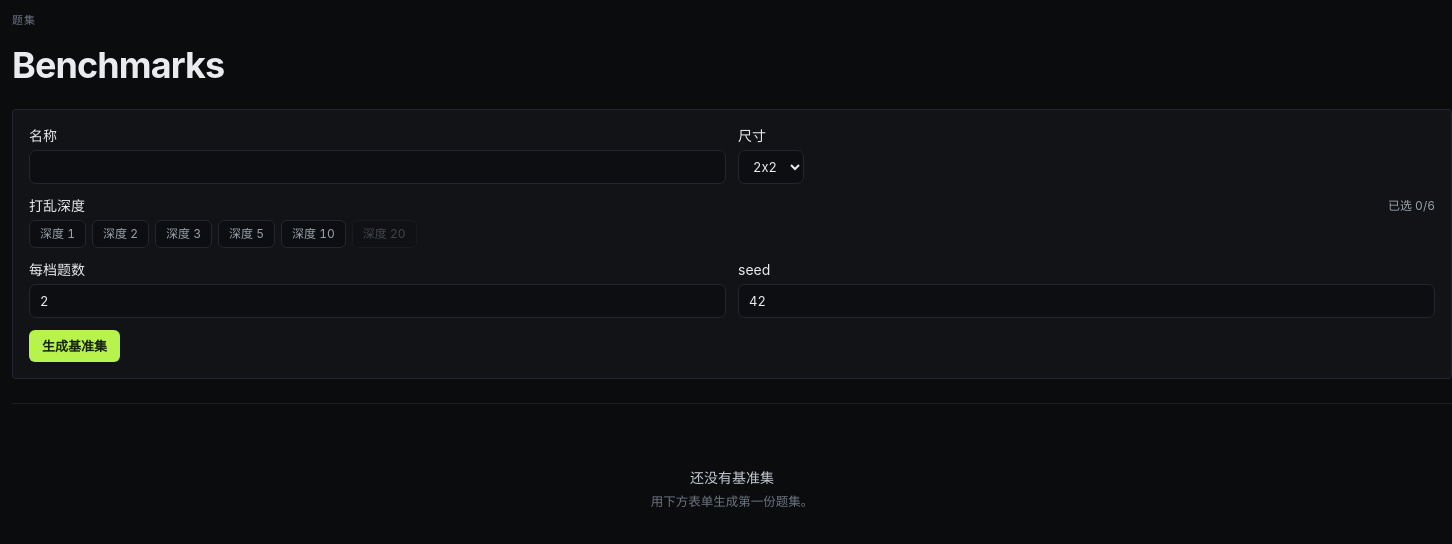
Test: BenchmarksView › refuses to generate without any depth
Type "demo" into the field labelled "名称" at (378, 167), box left=29, top=150, right=726, bottom=184
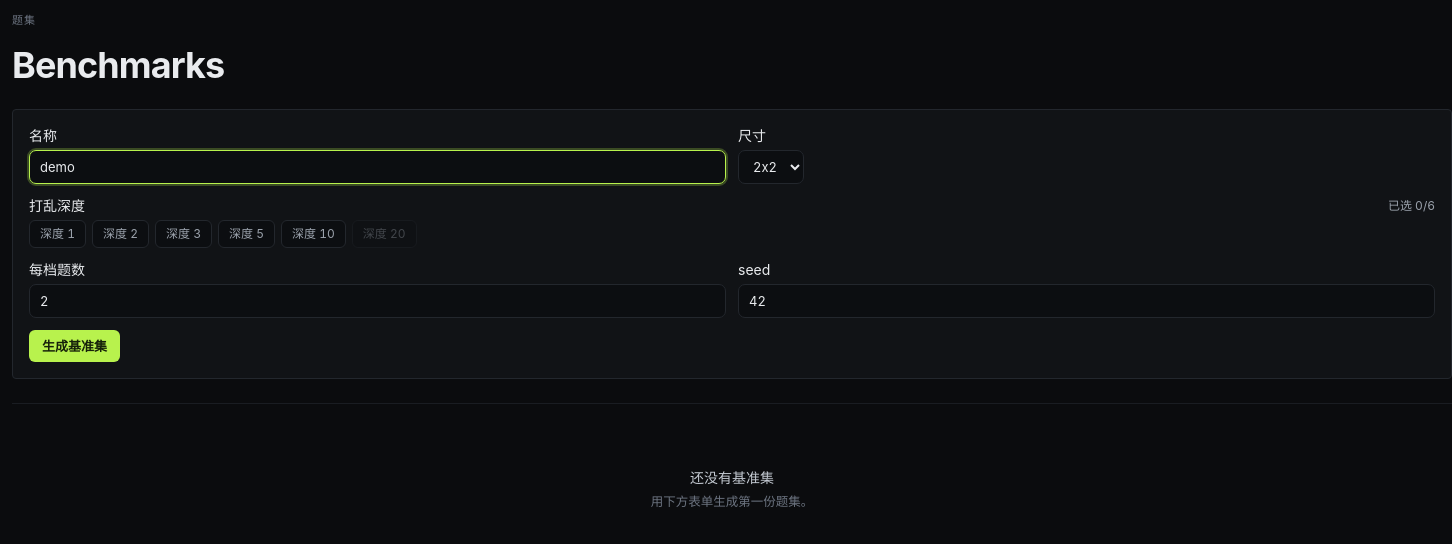
Click the button "生成基准集" at (74, 346), box left=29, top=330, right=120, bottom=362
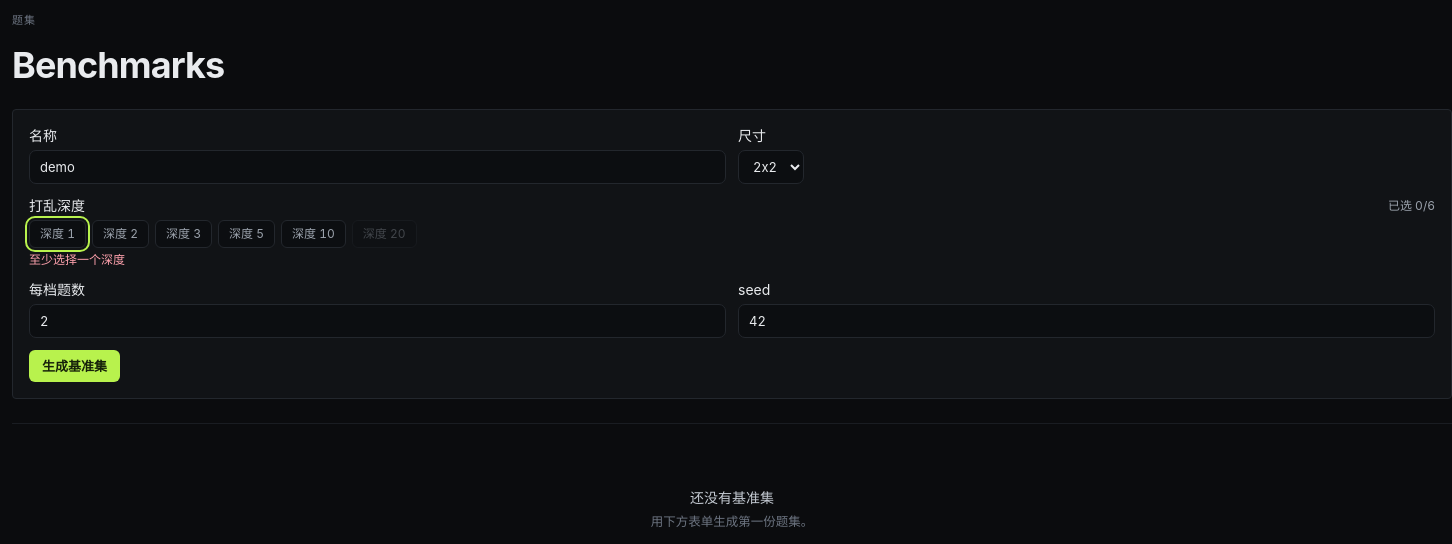
Expected: the message reads "至少选择一个深度", left=29, top=252, right=125, bottom=267
